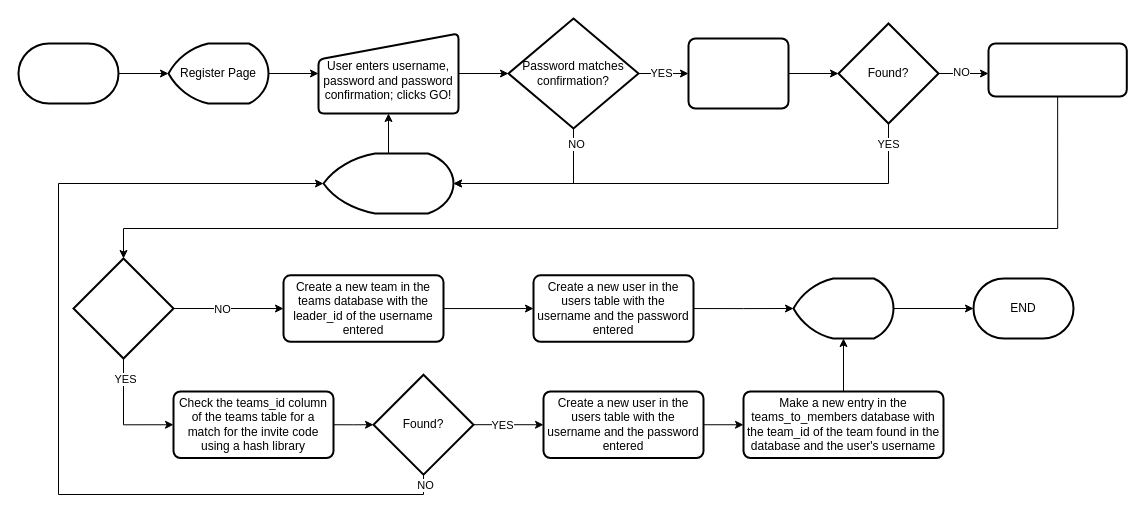
The diagram is 1145 pixels wide and 520 high, and some of its shapes have lost their labels. Each missing label, with the box of its shape:
Board Page: (792, 277, 894, 339)
Check the users database for duplicate username: (687, 37, 789, 109)
Check whether the URL contains an invite code: (987, 42, 1127, 97)
It does?: (72, 257, 174, 359)
Register Page with error messages: (322, 152, 454, 214)
START: (17, 42, 119, 104)
